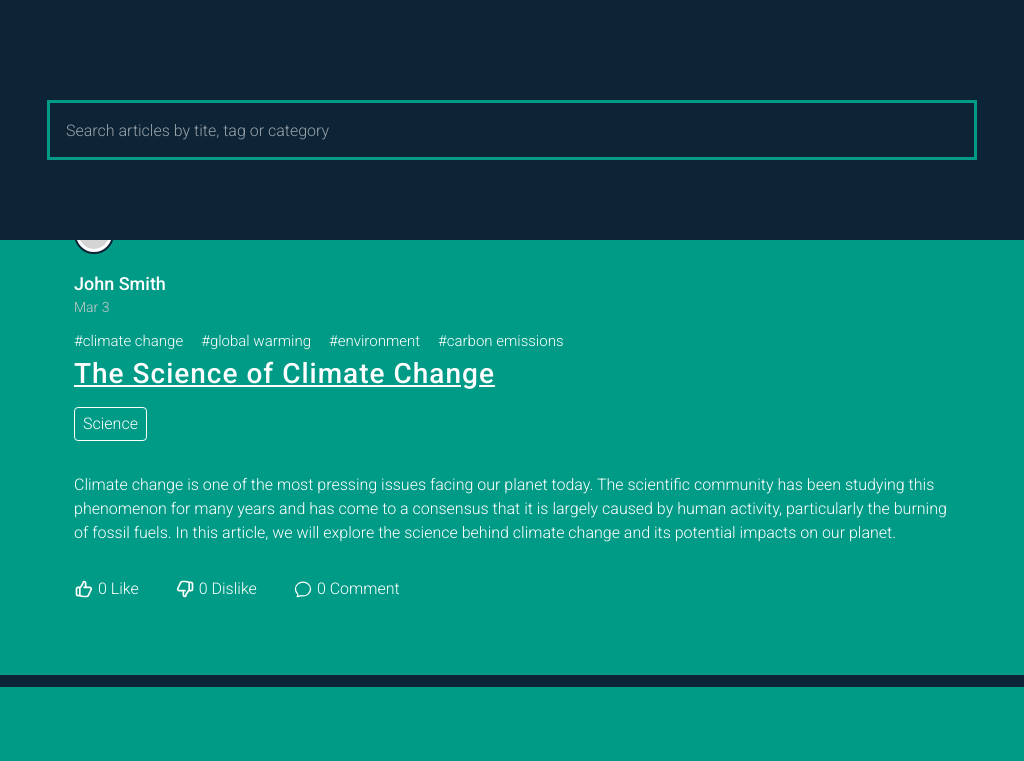
Test case: Home Page › should be searchable by title, tag or category
In the field: (512,130) [47, 100, 977, 160], type "science"
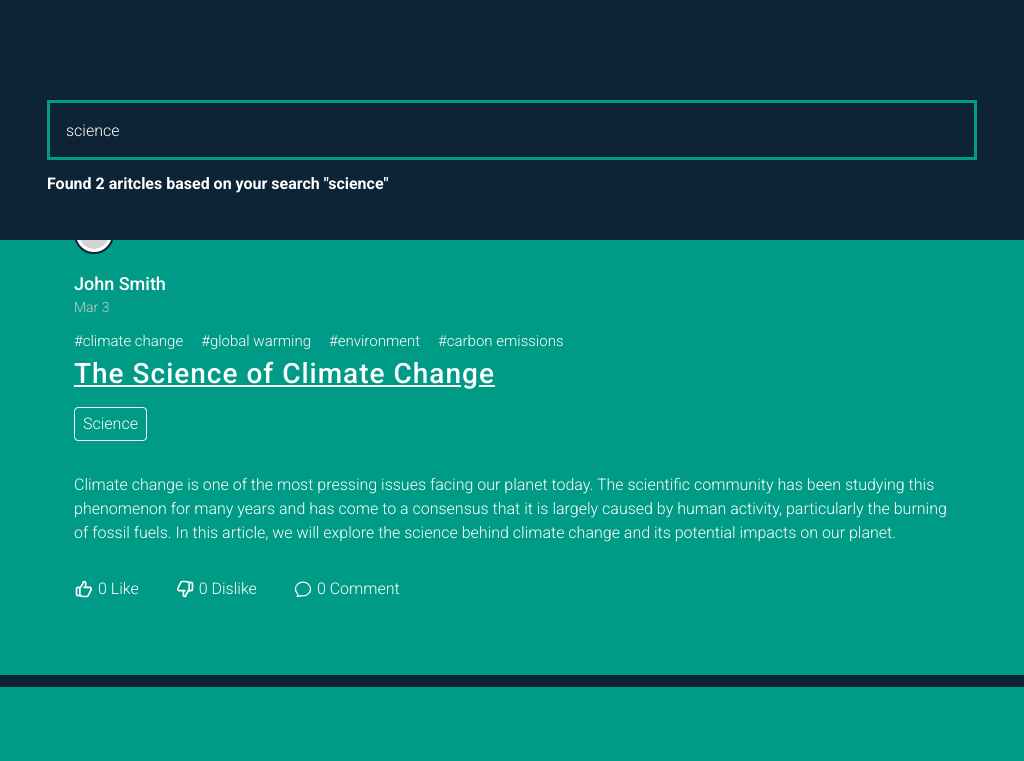
expect the text "Found 2 aritcles based on your search \"science\"" is shown: met, box [47, 174, 388, 193]
